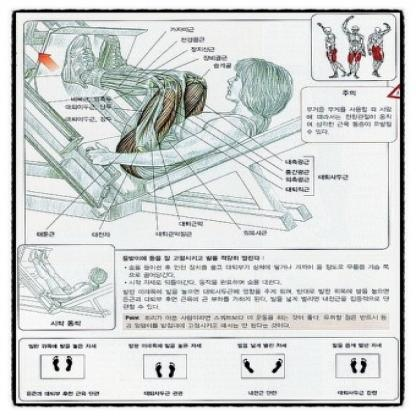leg press: (30, 21, 315, 239)
